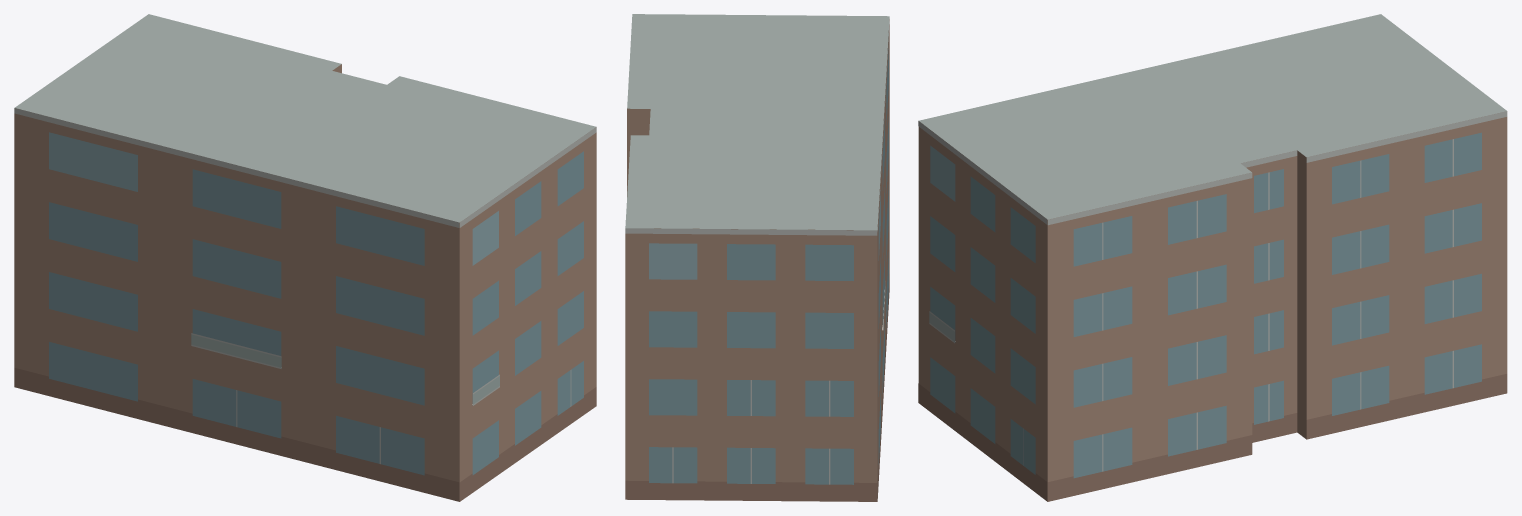
The model's file is survey-upis-32822665.glb.
The picture shows the model from 3 angles, left to right: view 1: azimuth 30°, elevation 25°; view 2: azimuth 150°, elevation 25°; view 3: azimuth 270°, elevation 25°; orthographic projection. The views are drawn at different scales.
Visible parts, largest first — view 1: survey-upis-32822665.tmp; view 2: survey-upis-32822665.tmp; view 3: survey-upis-32822665.tmp.
Boxes of the visible parts, box(x1,y1,x2,y2) form: survey-upis-32822665.tmp: box(14, 14, 596, 501); survey-upis-32822665.tmp: box(625, 14, 889, 501); survey-upis-32822665.tmp: box(918, 14, 1507, 501).
Bounding box in the file's own units: 19.08 × 12.2 × 23.08.
